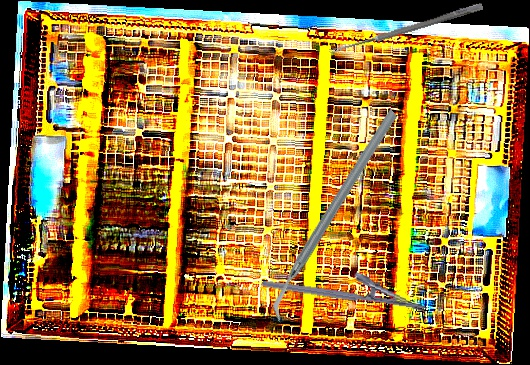Chopper: (214, 106, 456, 324)
Needle Holder: (261, 257, 432, 314)
Surgical Spoon: (328, 1, 484, 57)
